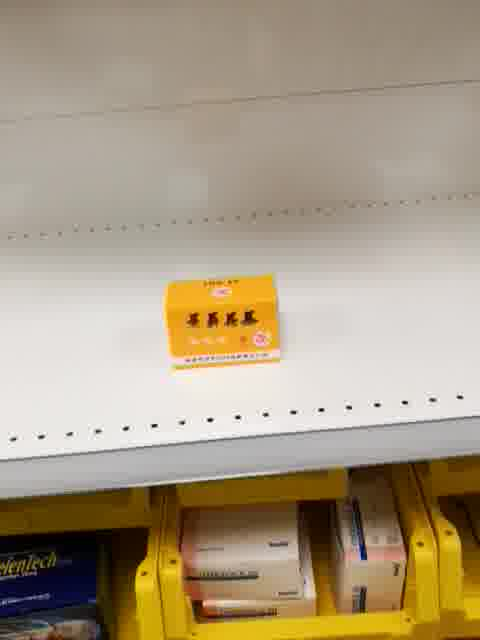jasminetea: (165, 272, 286, 373)
